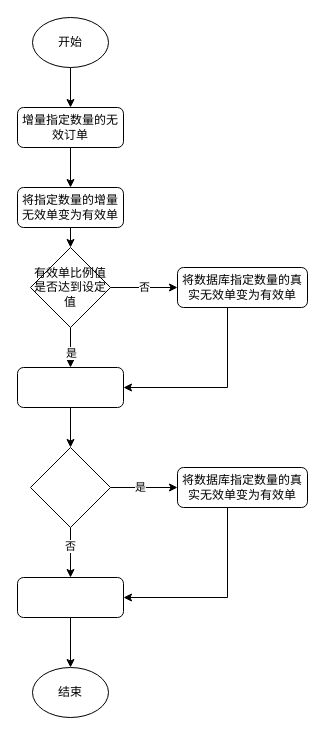
This 325x735 diagram has some shape labels left out. The centre of each missing label's shape, as x and y in pixels:
"将指定数量的增量有效单变为激活单" goes at (x=70, y=387).
"新增量订单入库" goes at (x=70, y=597).
"激活单比例值是否达到设定值" goes at (x=70, y=487).
